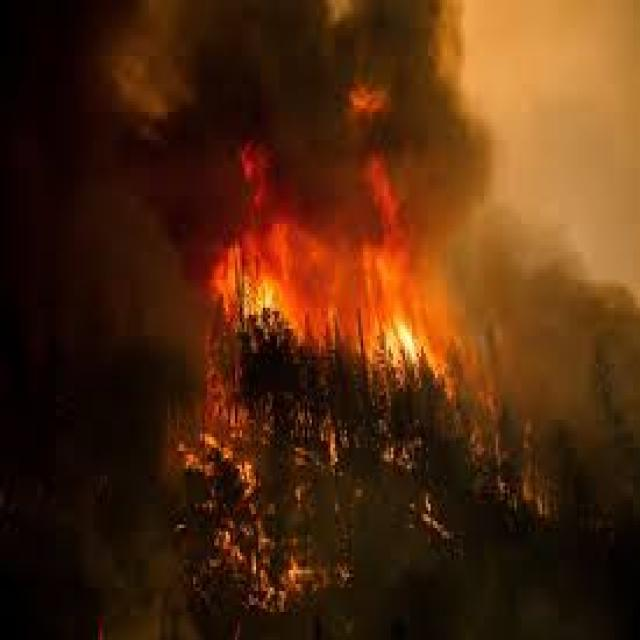Fire: (165, 230, 530, 370)
Smoke: (0, 0, 507, 234), (552, 254, 640, 516)
